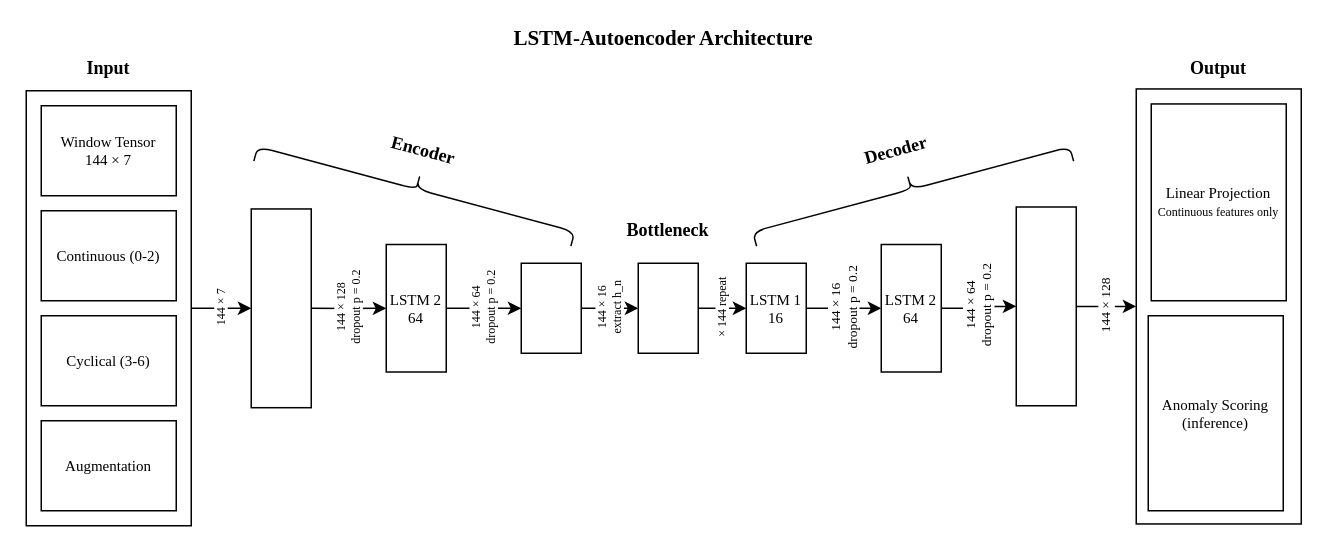
This 1328x554 diagram has some shape labels left out. The centre of each missing label's shape, as x and y in pixels:
h_n 16 63:1: the point at 667,307
LSTM 1 128: the point at 280,307
LSTM 3 128: the point at 1045,306
LSTM 3 16: the point at 550,307
